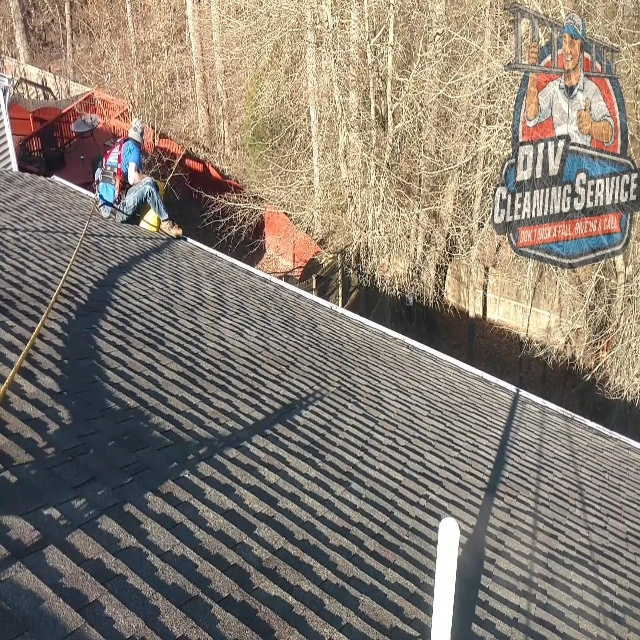Arnes_seguridad: (93, 133, 132, 220)
